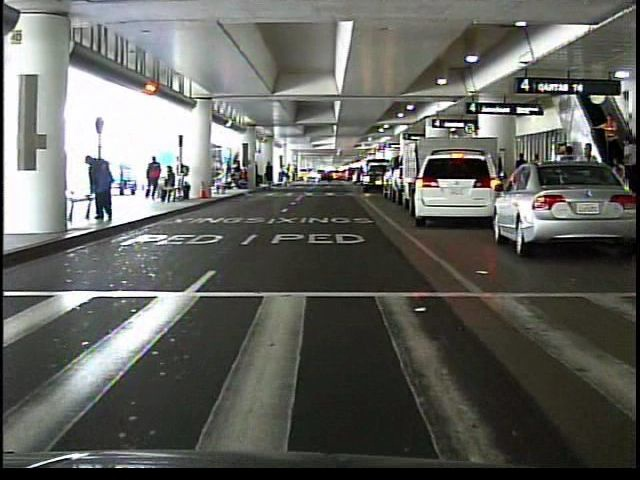person: (83, 151, 118, 226), (594, 112, 621, 164), (618, 136, 637, 191), (214, 166, 230, 201), (279, 162, 293, 191)
